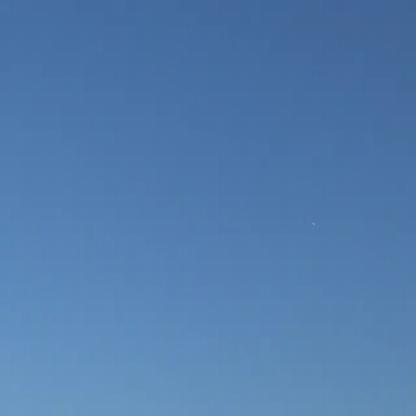CIV_Plane: (311, 220, 318, 230)
